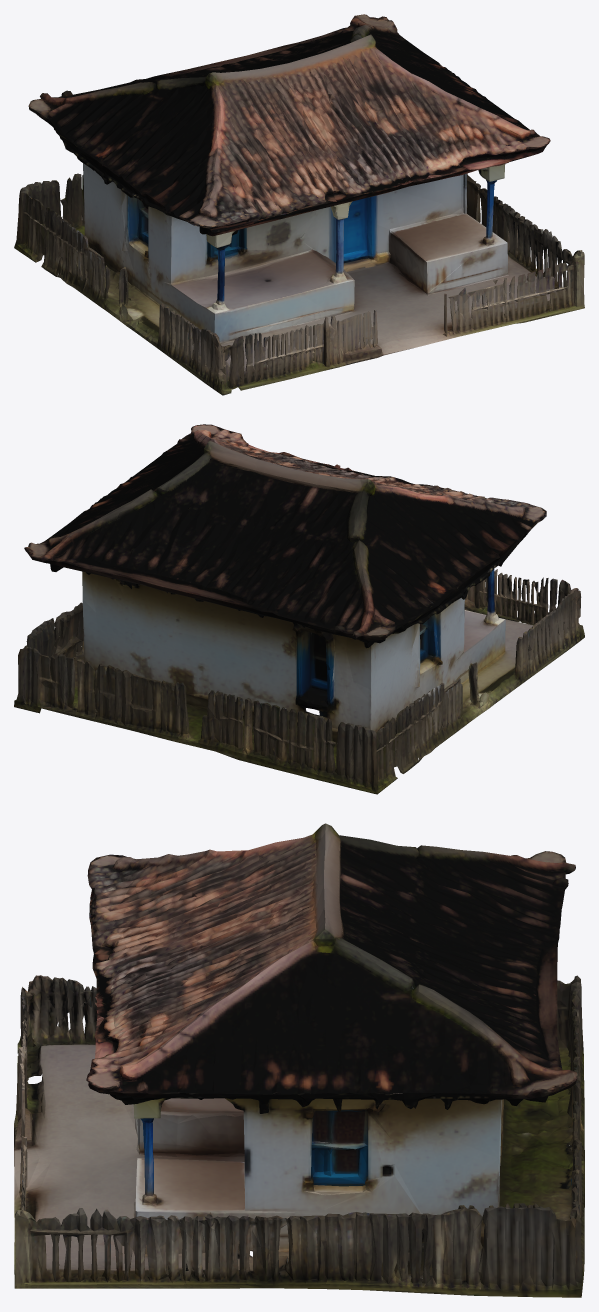
Rendered from indian_house_old.glb.
3 renders of one model, top to bottom at view 1: azimuth 30°, elevation 25°; view 2: azimuth 150°, elevation 25°; view 3: azimuth 270°, elevation 25°, orthographic. The views are drawn at different scales.
Parts seen in each view (by area): view 1: Indian House; view 2: Indian House; view 3: Indian House.
Boxes of the visible parts, box(x1,y1,x2,y2) form: Indian House: box(14, 14, 584, 395); Indian House: box(14, 424, 584, 794); Indian House: box(14, 823, 584, 1297).
Bounding box in the file's own units: 7.32 × 4.26 × 7.31.
1 material, 1 textured.
